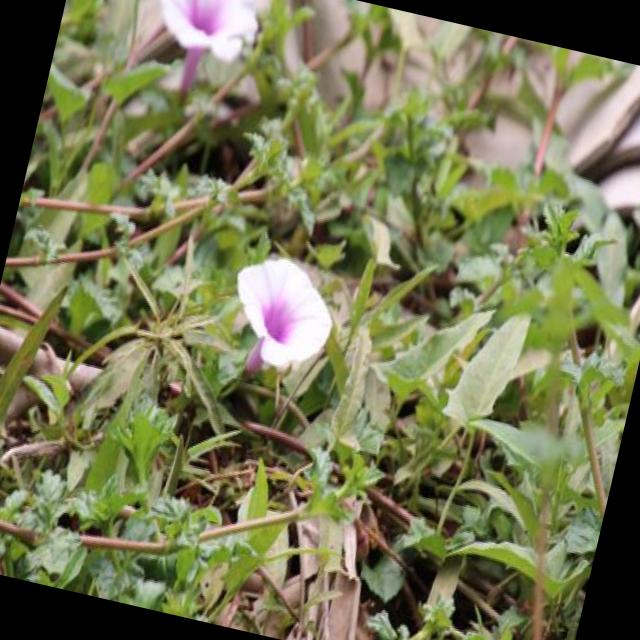ipomoea: (212, 242, 348, 392), (131, 0, 272, 113)
